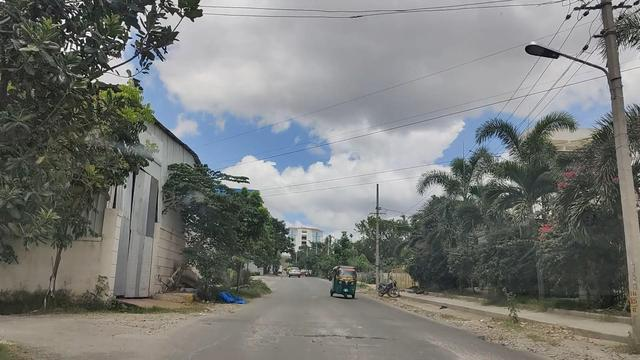RoadDamages: (90, 312, 185, 350), (286, 315, 391, 349)
